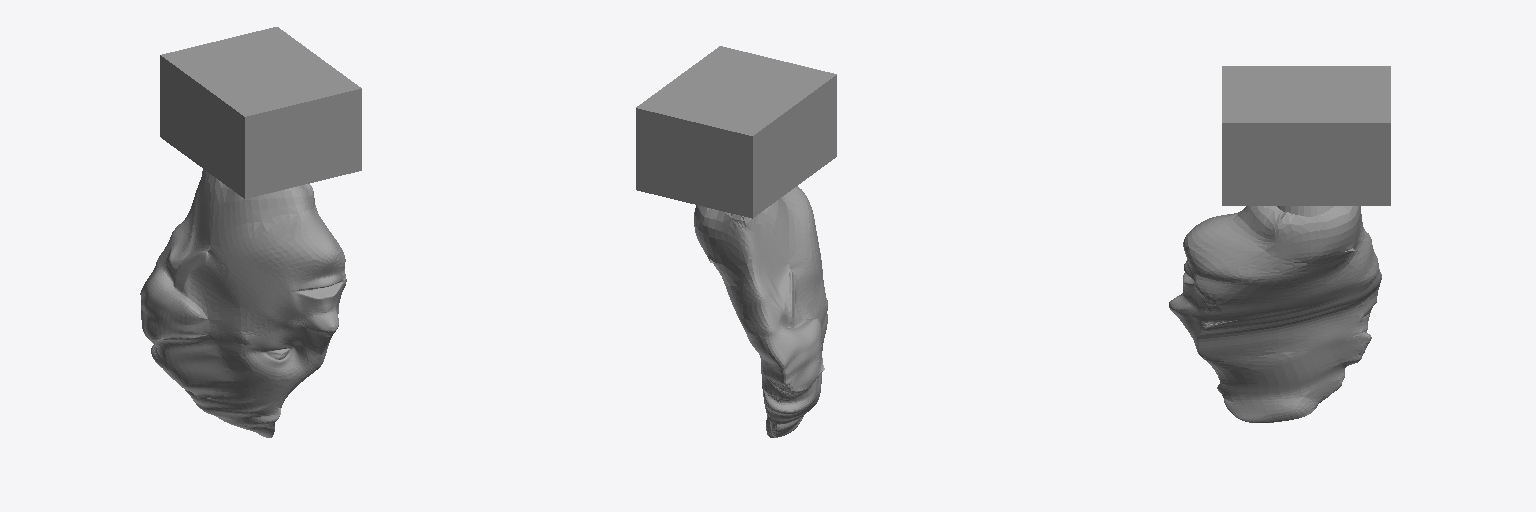
Rendered from bust.obj.
The picture shows the model from 3 angles: view 1: azimuth 30°, elevation 25°; view 2: azimuth 150°, elevation 25°; view 3: azimuth 270°, elevation 25°; orthographic projection.
Parts seen in each view (by area): view 1: Cube, Cube.001; view 2: Cube.001, Cube; view 3: Cube, Cube.001.
Boxes of the visible parts, box(x1,y1,x2,y2) form: Cube: box(140, 169, 346, 437); Cube.001: box(160, 27, 361, 198); Cube.001: box(636, 46, 836, 218); Cube: box(694, 186, 827, 437); Cube: box(1169, 206, 1381, 422); Cube.001: box(1222, 66, 1390, 205).
Bounding box in the file's own units: 9.21 × 19.48 × 11.55.